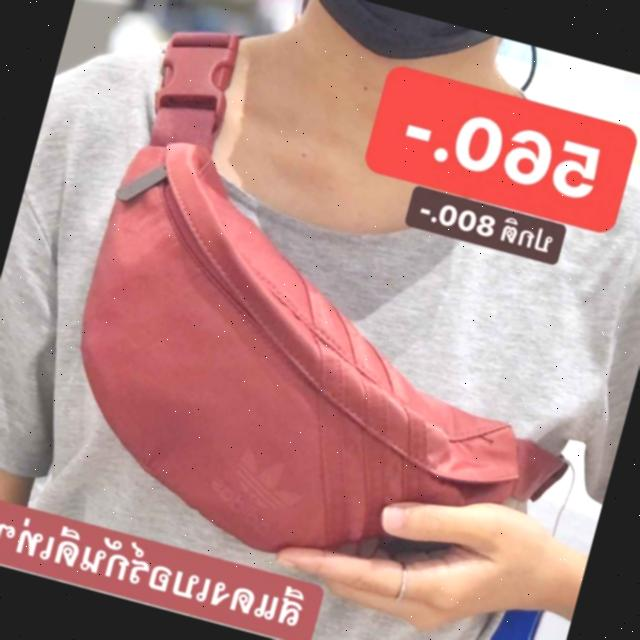Handbag: (31, 122, 628, 626)
